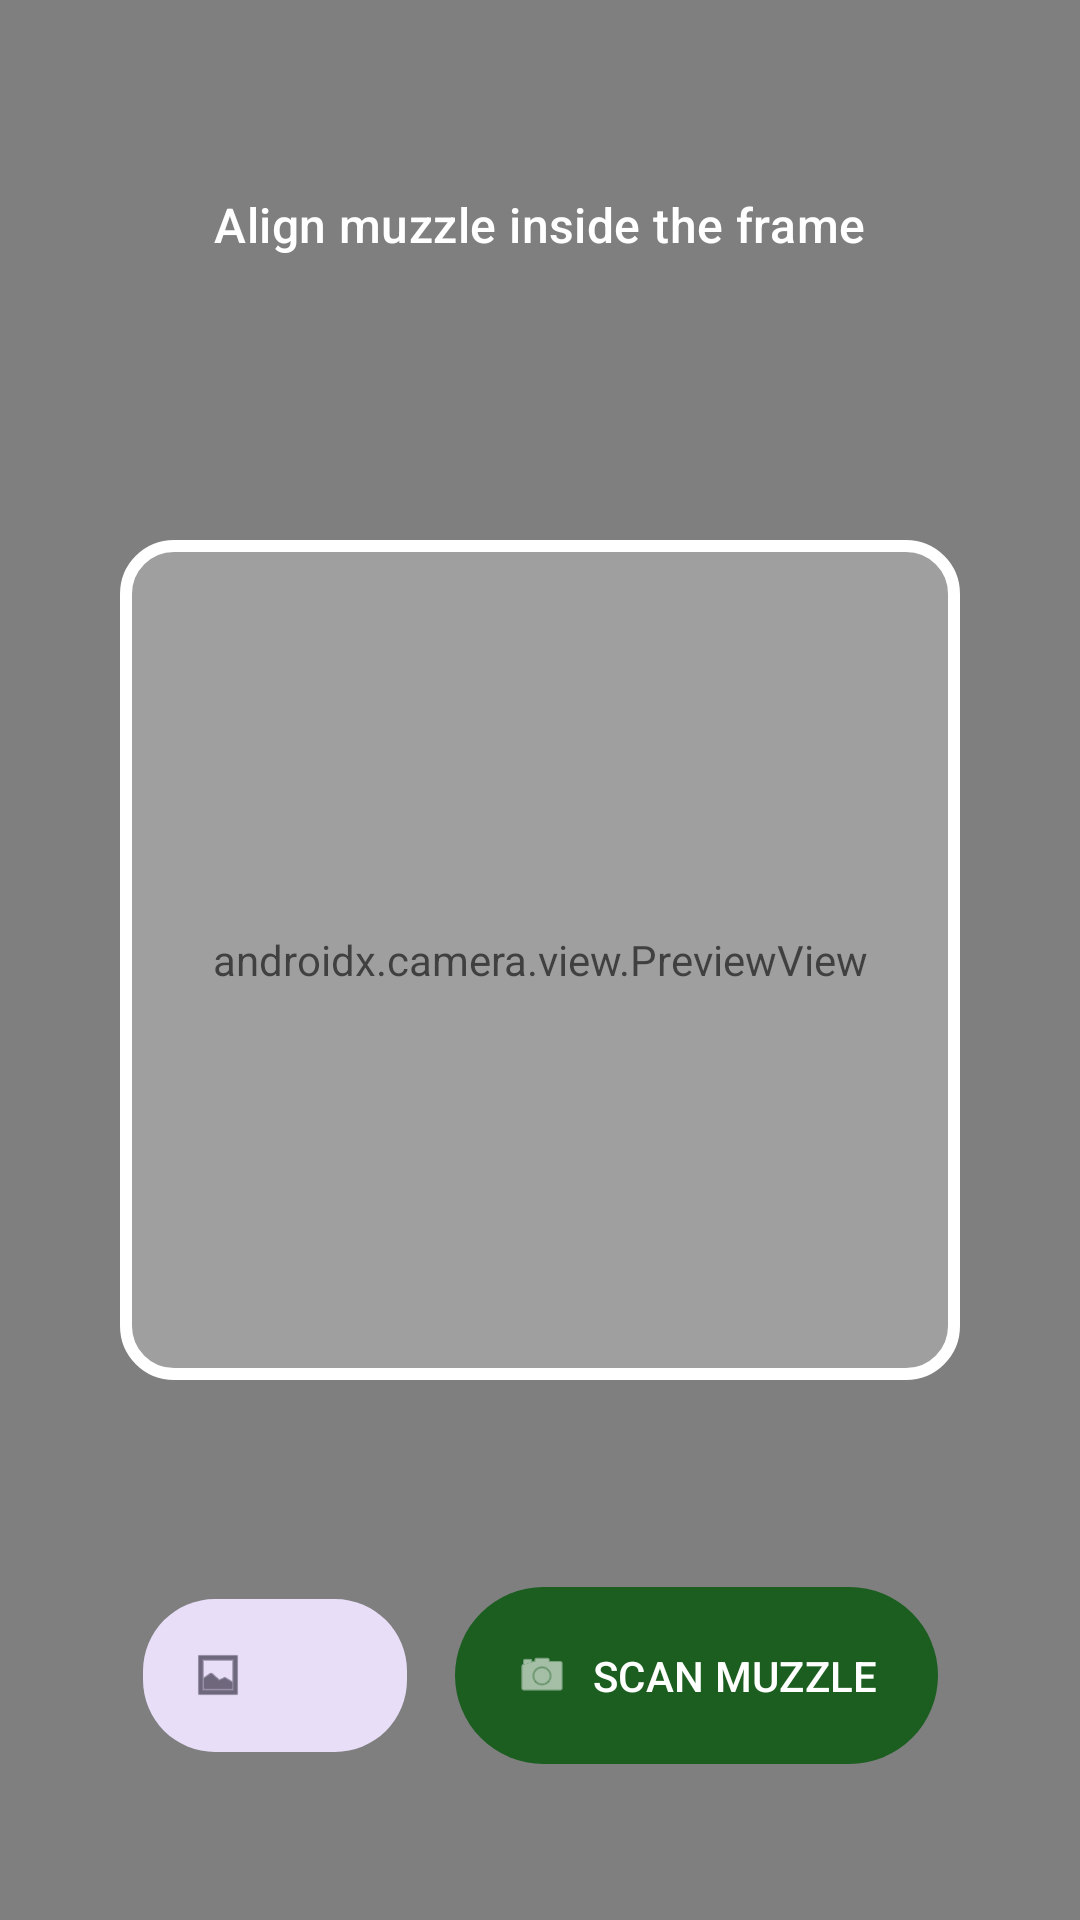

Named icons in this screenshot (1080w x 1920h) and their bounding boxes, bbox=(x1, y1, x2, y2):
gallery: bbox=(143, 1599, 407, 1752)
